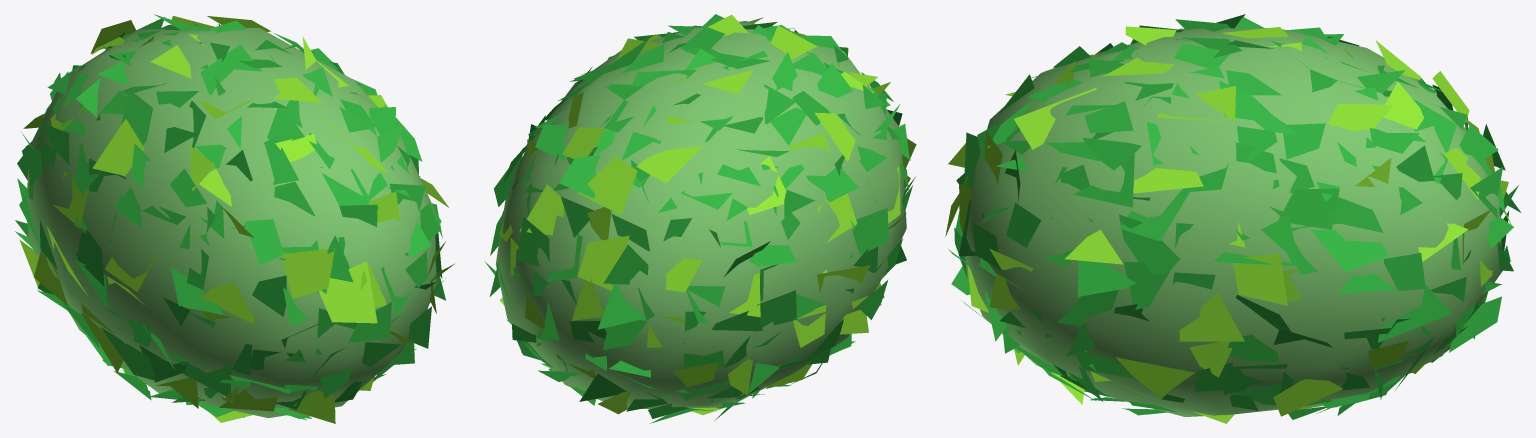
The model's file is bush_1.fbx.
The picture shows the model from 3 angles, left to right: view 1: azimuth 30°, elevation 25°; view 2: azimuth 150°, elevation 25°; view 3: azimuth 270°, elevation 25°; orthographic projection. The views are drawn at different scales.
Parts seen in each view (by area): view 1: Cube.001; view 2: Cube.001; view 3: Cube.001.
Part boxes in pixels (x1,y1,x2,y2): Cube.001: [15, 14, 454, 423]; Cube.001: [484, 14, 916, 423]; Cube.001: [945, 14, 1521, 423].
Bounding box in the file's own units: 177 × 179 × 252.
